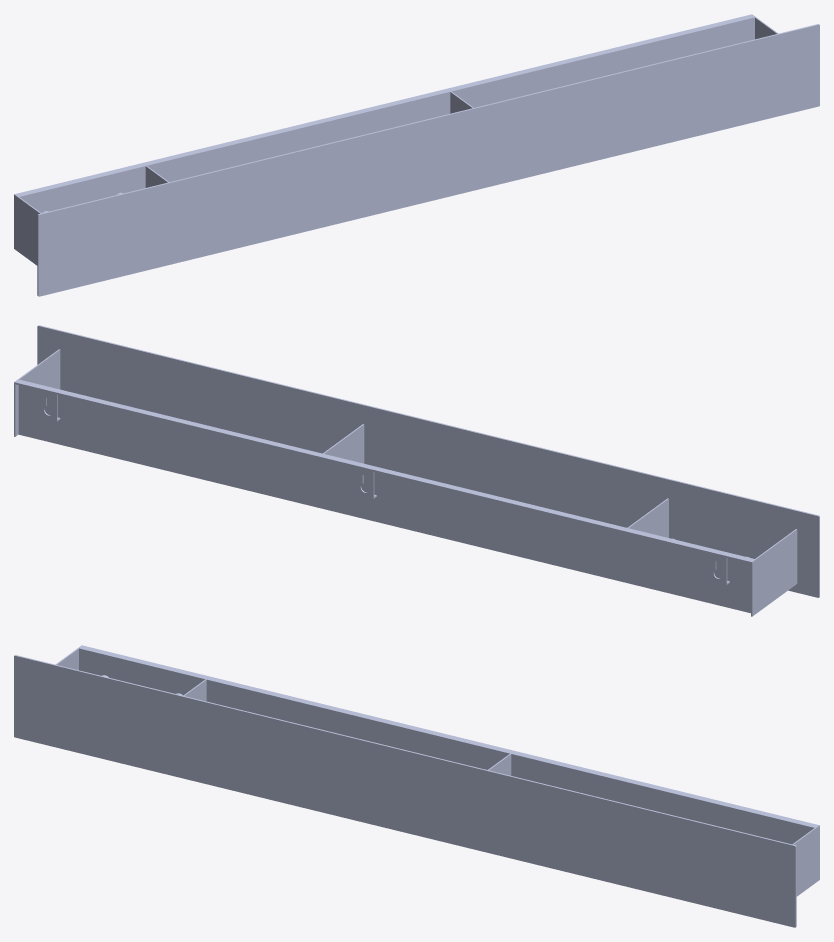
File: skyline-patron.46650fffa3.glb
3 renders of one model, top to bottom at view 1: azimuth 30°, elevation 25°; view 2: azimuth 150°, elevation 25°; view 3: azimuth 330°, elevation 25°, orthographic.
Visible parts, largest first — view 1: NAUO1; view 2: NAUO1; view 3: NAUO1.
Boxes of the visible parts, x1,y1,x2,y2 form: NAUO1: (14, 14, 819, 296); NAUO1: (14, 325, 819, 616); NAUO1: (14, 645, 819, 927).
Size of the model in its own units: 0.9 by 0.09 by 0.092.
